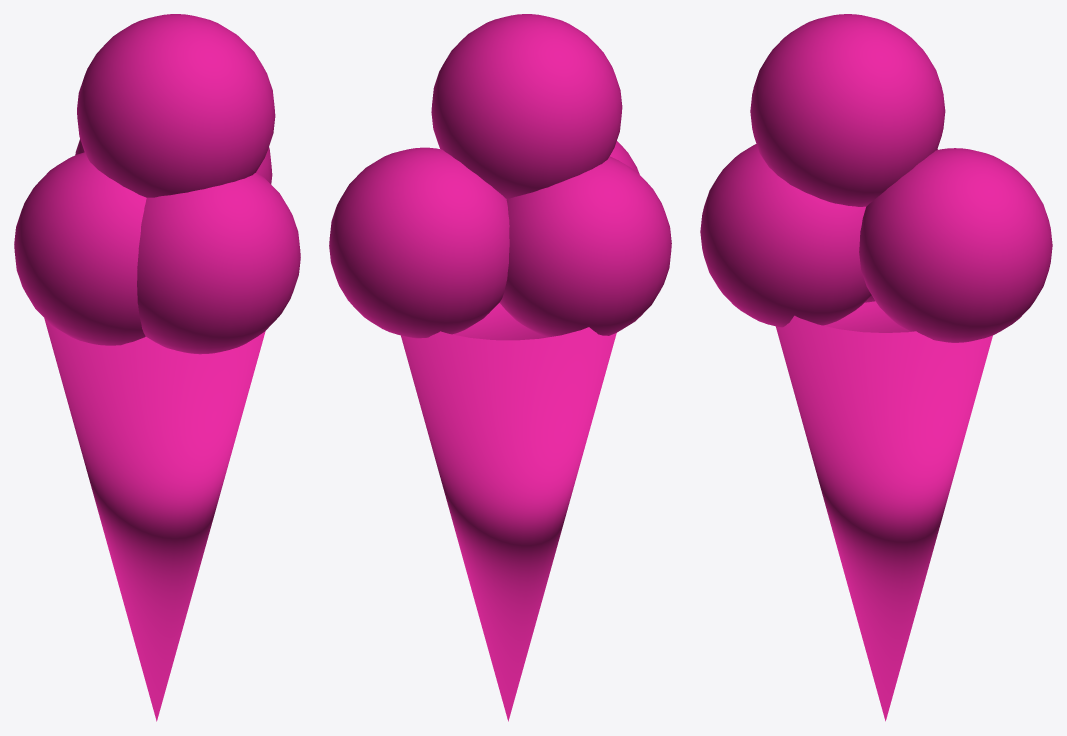
File: icecreame_2.fbx
The picture shows the model from 3 angles, left to right: view 1: azimuth 30°, elevation 25°; view 2: azimuth 150°, elevation 25°; view 3: azimuth 270°, elevation 25°; orthographic projection. The views are drawn at different scales.
Parts seen in each view (by area): view 1: Sphere.001; view 2: Sphere.001; view 3: Sphere.001.
Part boxes in pixels (x1,y1,x2,y2): Sphere.001: (14, 14, 300, 721); Sphere.001: (329, 14, 671, 721); Sphere.001: (700, 14, 1052, 721).
Size of the model in its own units: 261 by 633 by 289.
